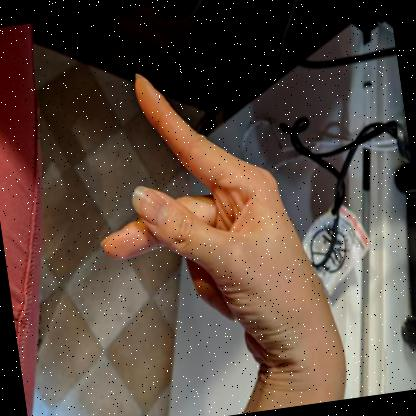P: (100, 73, 344, 365)
